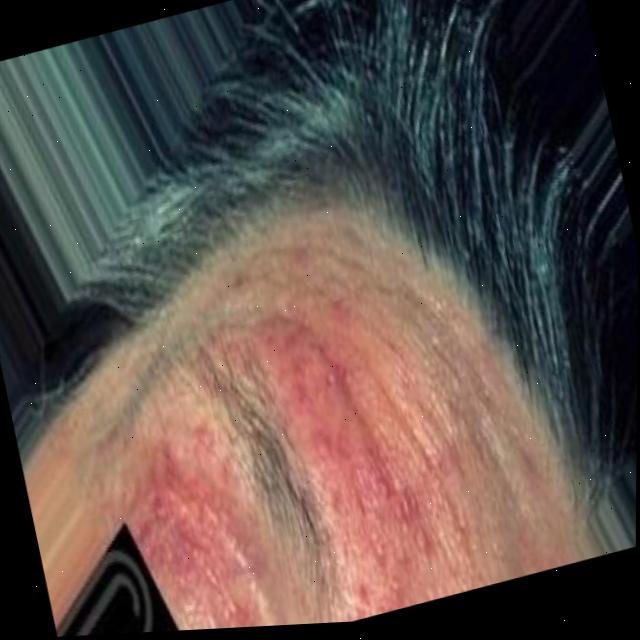Rosacea: (251, 270, 448, 627), (125, 421, 282, 633)
